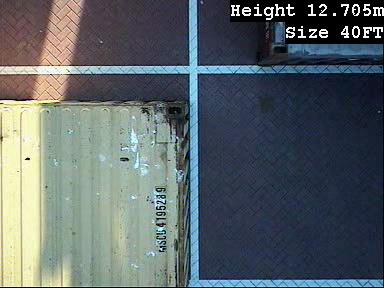groundmarker_2: (77, 88, 155, 118), (104, 223, 131, 282)
